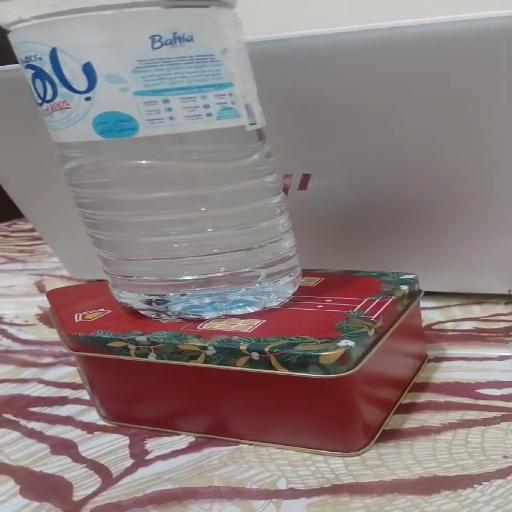bouteille non conformite: (12, 0, 302, 304)
